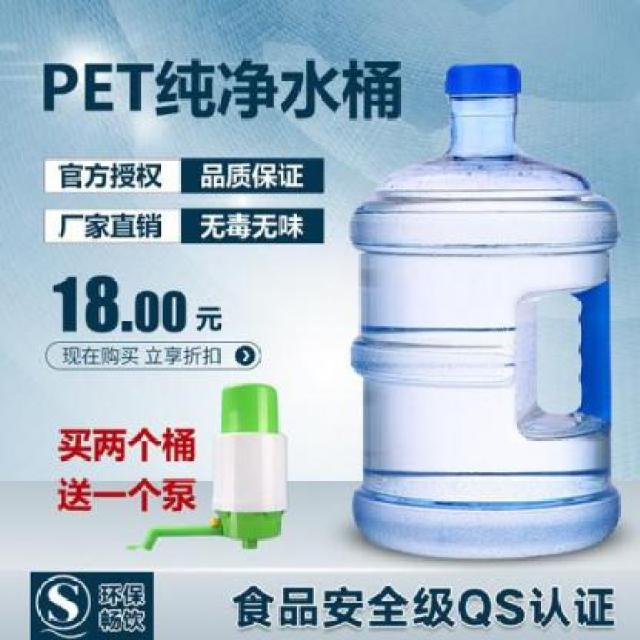coolerbottle: (346, 60, 624, 563)
